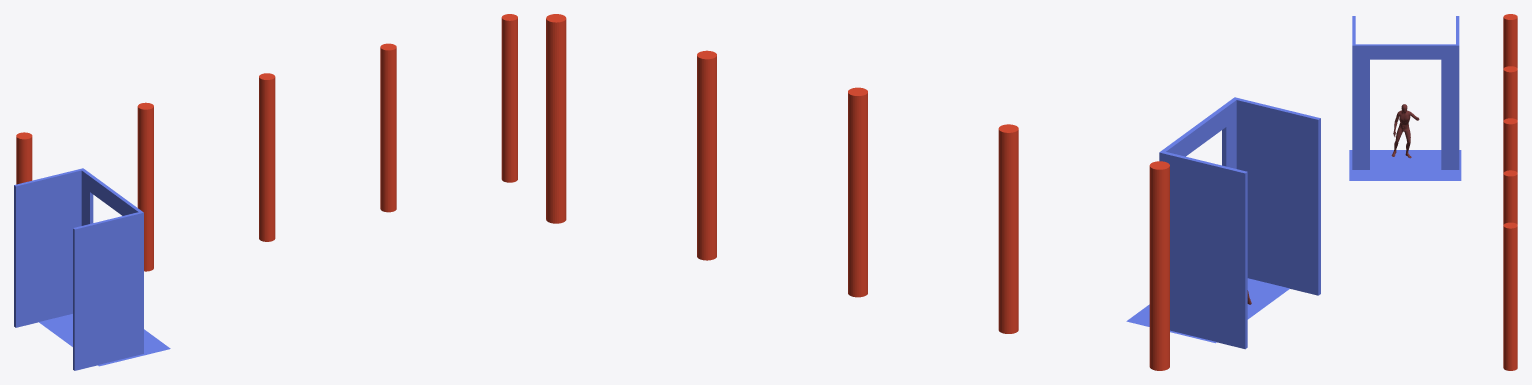
Rendered from PL_LBVR_SC01_v01.fbx.
The picture shows the model from 3 angles, left to right: view 1: azimuth 30°, elevation 25°; view 2: azimuth 150°, elevation 25°; view 3: azimuth 270°, elevation 25°; orthographic projection. The views are drawn at different scales.
Parts seen in each view (by area): view 1: Cube.011, DEIXAR EM TODOS OS LEVELS P/ REF, Plane.001; view 2: Cube.011, DEIXAR EM TODOS OS LEVELS P/ REF, Plane.001; view 3: Cube.011, DEIXAR EM TODOS OS LEVELS P/ REF, Plane.001, Ch36.014.
Part boxes in pixels (x1,y1,x2,y2): Cube.011: (14,168,143,370); DEIXAR EM TODOS OS LEVELS P/ REF: (16,14,517,271); Plane.001: (39,314,170,366); Cube.011: (1159,97,1320,349); DEIXAR EM TODOS OS LEVELS P/ REF: (546,14,1169,370); Plane.001: (1126,278,1289,343); Cube.011: (1352,16,1459,169); DEIXAR EM TODOS OS LEVELS P/ REF: (1503,14,1517,370); Plane.001: (1349,150,1461,180); Ch36.014: (1391,104,1419,158).
Bounding box in the file's own units: 1536 × 446 × 479.
